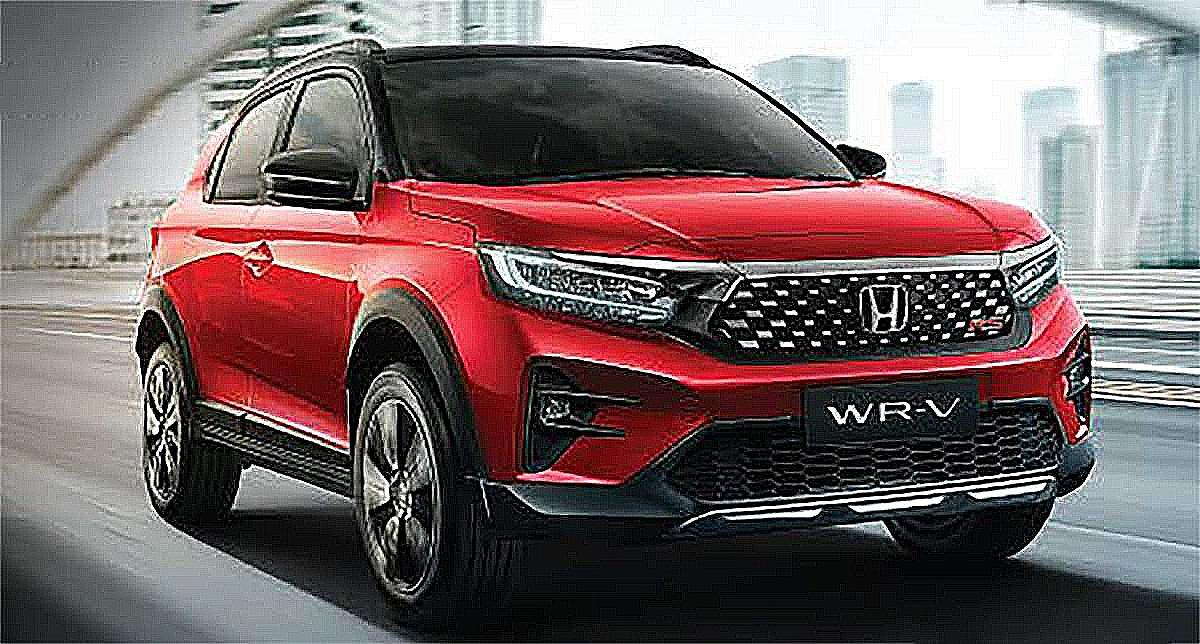Car hood: (400, 175, 1056, 258)
Driver-s door - -F-R-: (229, 25, 371, 520)
Fender - -F-R-: (315, 155, 489, 515)
Fender - -R-R-: (121, 125, 220, 403)
Front bumper: (421, 275, 1095, 555)
Headlight - -L-: (1000, 231, 1067, 317)
Headlight - -R-: (475, 242, 715, 343)
Passenger-s door - -R-R-: (149, 30, 305, 486)
Side bumper - -R-: (165, 390, 363, 503)
Side mirror - -L-: (836, 144, 890, 179)
Side mirror - -R-: (259, 138, 369, 218)
